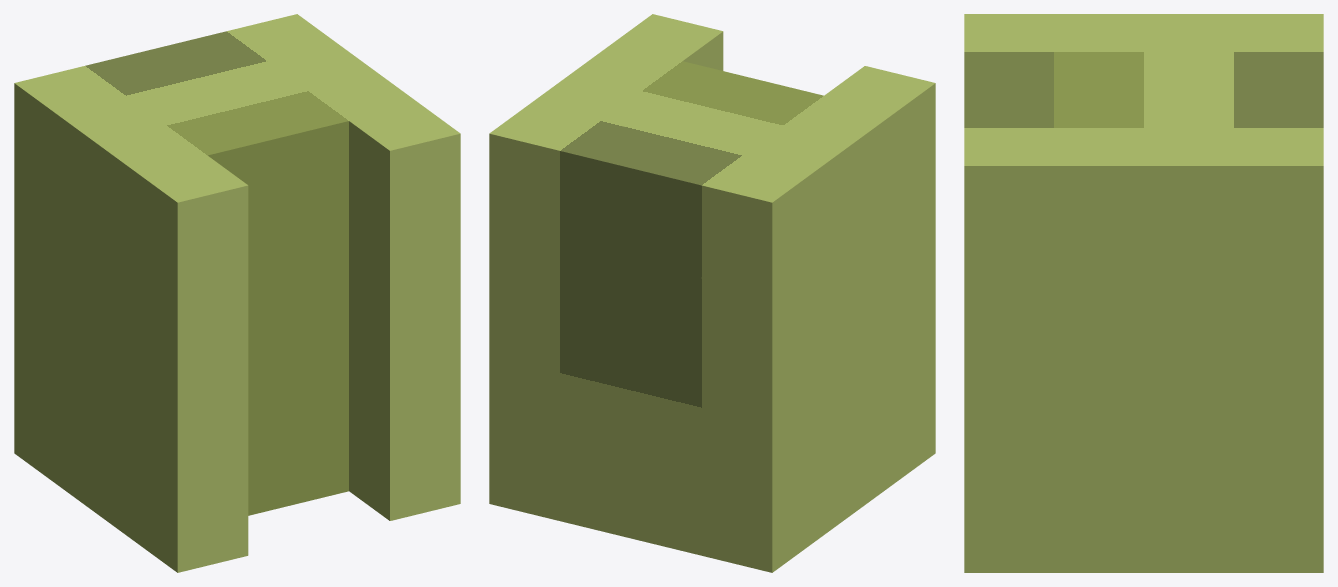
File: Butt_3.fbx
3 views of the same model, side by side, from view 1: azimuth 30°, elevation 25°; view 2: azimuth 150°, elevation 25°; view 3: azimuth 270°, elevation 25° (orthographic). The views are drawn at different scales.
Parts seen in each view (by area): view 1: Butt_3; view 2: Butt_3; view 3: Butt_3.
Boxes of the visible parts, x1,y1,x2,y2 form: Butt_3: [14, 14, 460, 572]; Butt_3: [489, 14, 935, 572]; Butt_3: [964, 14, 1323, 572].
Bounding box in the file's own units: 4 × 5 × 4.
1 material, 1 textured.
